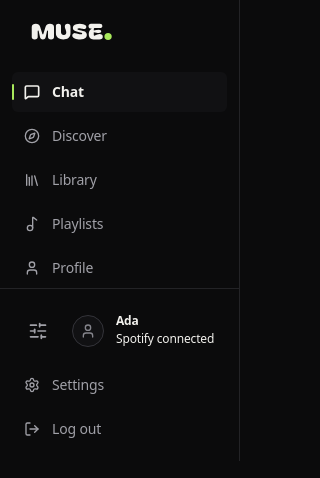
Test: Sidebar log out › marks the control busy while the server ends the session
Click the button "Log out": {"x": 120, "y": 429} top-left (12, 409), bottom-right (227, 449)
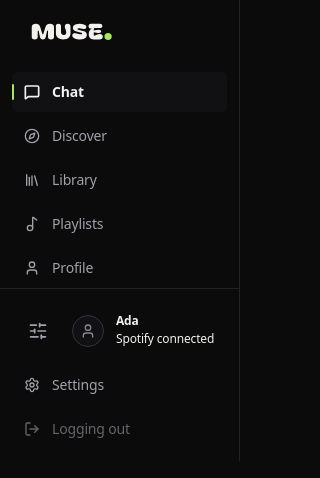
Now the button "Logging out" is disabled, box top-left (12, 409), bottom-right (227, 449)
